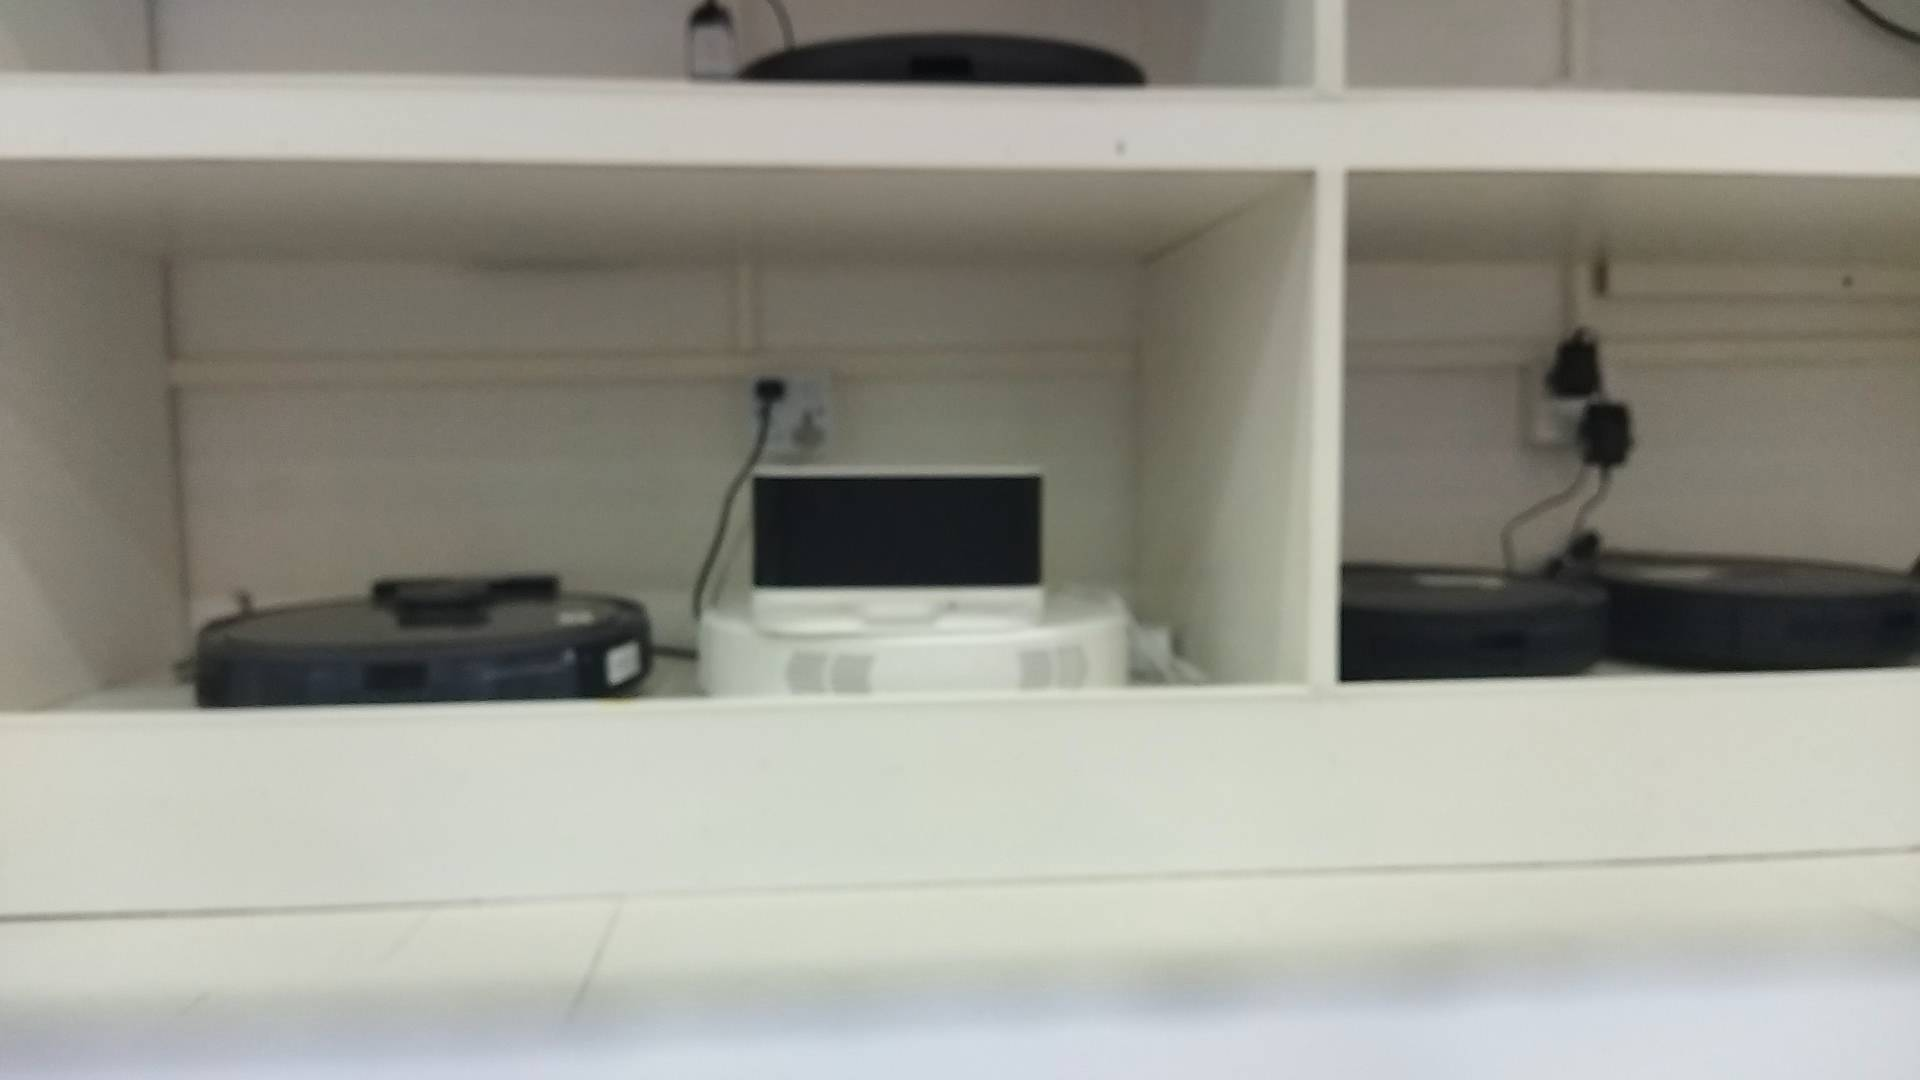recharge seat: (752, 462, 1047, 634)
